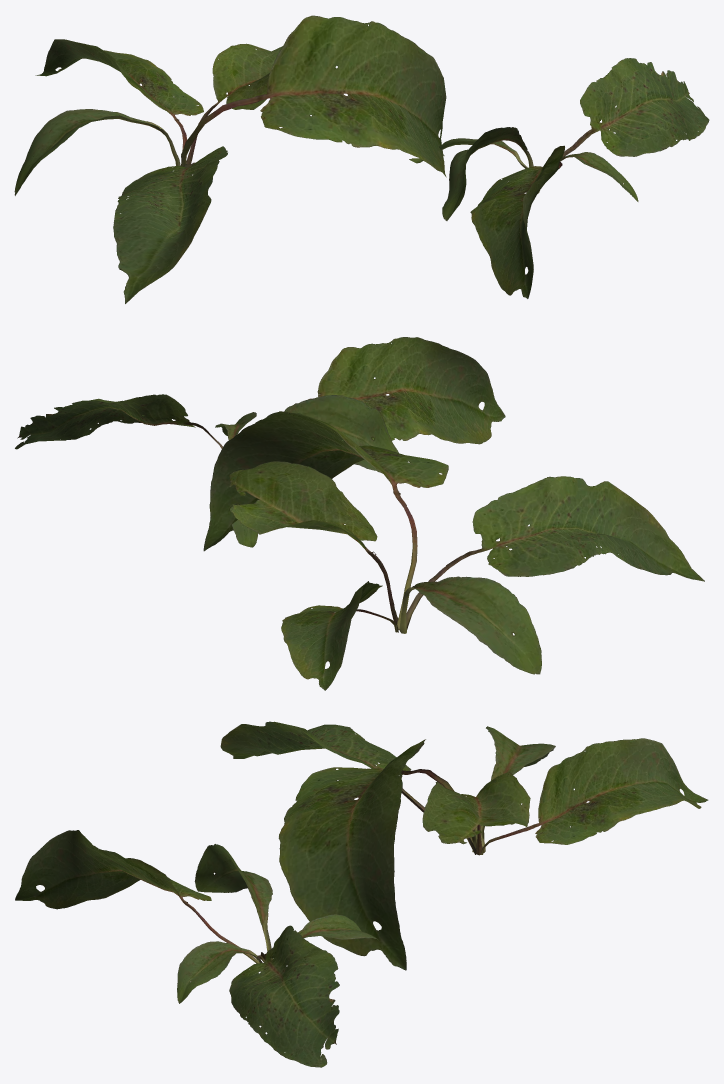
File: weed_plant_02.glb
3 views of the same model, one above another, from view 1: azimuth 30°, elevation 25°; view 2: azimuth 150°, elevation 25°; view 3: azimuth 270°, elevation 25° (orthographic). The views are drawn at different scales.
Parts seen in each view (by area): view 1: weed_plant_02_c_LOD0, weed_plant_02_d_LOD0; view 2: weed_plant_02_c_LOD0, weed_plant_02_d_LOD0; view 3: weed_plant_02_c_LOD0, weed_plant_02_d_LOD0.
Part boxes in pixels (x1=…): weed_plant_02_c_LOD0: x1=14, y1=15, x2=446, y2=303; weed_plant_02_d_LOD0: x1=409, y1=58, x2=709, y2=298; weed_plant_02_c_LOD0: x1=203, y1=411, x2=704, y2=690; weed_plant_02_d_LOD0: x1=15, y1=337, x2=505, y2=547; weed_plant_02_c_LOD0: x1=220, y1=721, x2=708, y2=970; weed_plant_02_d_LOD0: x1=15, y1=830, x2=378, y2=1067.
Size of the model in its own units: 0.2201 by 0.0549 by 0.2038.
1 material, 1 textured.
